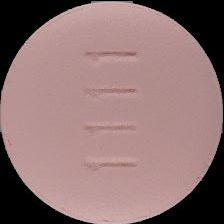0185-1111: (0, 0, 224, 224)
